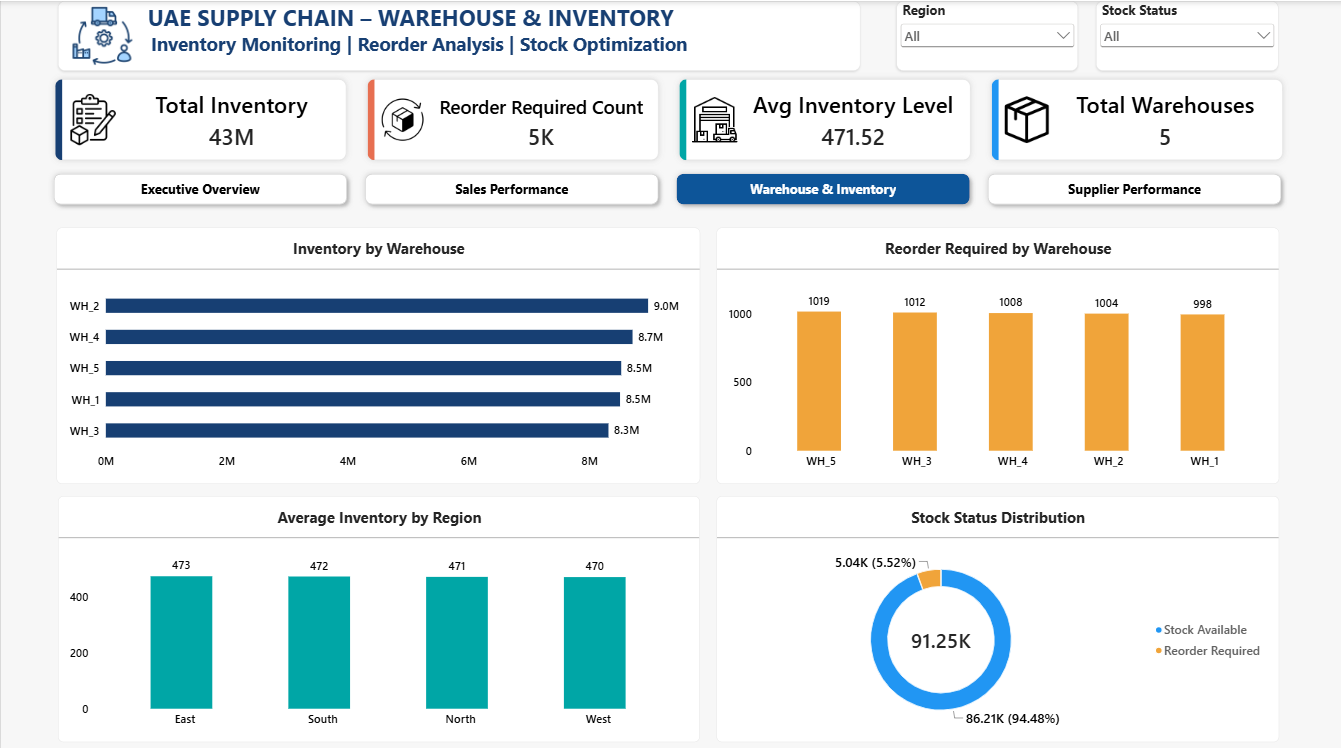

The page's visual inventory and layout, read from the dashboard file:
{"tool":"powerbi","page":{"name":"Warehouse & Inventory","canvas":[1920,1080],"ordinal":2},"visuals":[{"type":"textbox","box":[81.8,0,1149.3,99.9],"z":0},{"type":"cardVisual","fields":{"Data":["#Measures.Total Inventory","#Measures.Reorder Required Count","#Measures.Average Inventory Level","#Measures.Total Warehouses"]},"box":[65.9,99.9,1780.7,138.5],"z":1000},{"type":"pageNavigator","box":[66.8,238.6,1779.9,62],"z":2000},{"type":"clusteredBarChart","title":"Inventory by Warehouse","fields":{"Category":["public supply_chain.Warehouse ID"],"Y":["#Measures.Total Inventory"]},"box":[79.5,324.4,921.7,367.4],"z":3000},{"type":"clusteredColumnChart","title":"Reorder Required by Warehouse","fields":{"Category":["public supply_chain.Warehouse ID"],"Y":["#Measures.Reorder Required Count"]},"box":[1024.9,324.4,805.7,367.4],"z":4000},{"type":"clusteredColumnChart","title":"Average Inventory by Region","fields":{"Category":["public supply_chain.Region"],"Y":["#Measures.Average Inventory Level"]},"box":[81.6,709,919.6,352.4],"z":5000},{"type":"donutChart","title":"Stock Status Distribution","fields":{"Category":["public supply_chain.stock_status"],"Y":["#Measures.Stock Count"]},"box":[1024.9,709,805.7,352.4],"z":6000},{"type":"slicer","fields":{"Values":["public supply_chain.stock_status"]},"box":[1568.8,0,261.1,100],"z":7000},{"type":"slicer","fields":{"Values":["public supply_chain.Region"]},"box":[1283.3,0,260.1,100.2],"z":8000},{"type":"image","box":[99.9,0,88.6,99.9],"z":8001}]}

Visuals, with their boxes in screenshot pixels (x1, y1, x2, y2), scaled from the page's 1920x1080 canvas onto the 1341x748 screenshot:
textbox: rect(57, 0, 860, 69)
cardVisual - #Measures.Total Inventory x #Measures.Reorder Required Count: rect(46, 69, 1290, 165)
pageNavigator: rect(47, 165, 1290, 208)
"Inventory by Warehouse" clusteredBarChart: rect(56, 225, 699, 479)
"Reorder Required by Warehouse" clusteredColumnChart: rect(716, 225, 1279, 479)
"Average Inventory by Region" clusteredColumnChart: rect(57, 491, 699, 735)
"Stock Status Distribution" donutChart: rect(716, 491, 1279, 735)
slicer - public supply_chain.stock_status: rect(1096, 0, 1278, 69)
slicer - public supply_chain.Region: rect(896, 0, 1078, 69)
image: rect(70, 0, 132, 69)
